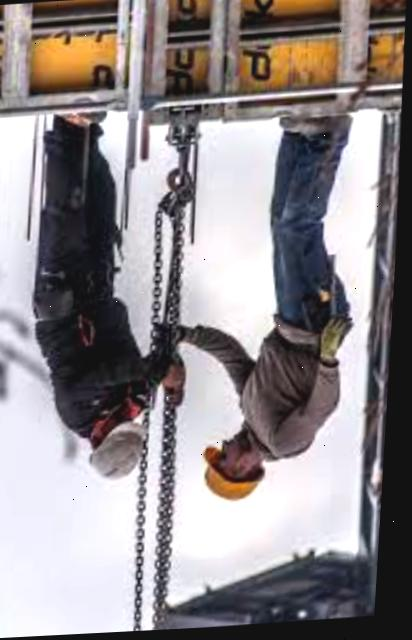helmet: (199, 451, 269, 512), (89, 425, 161, 479)
